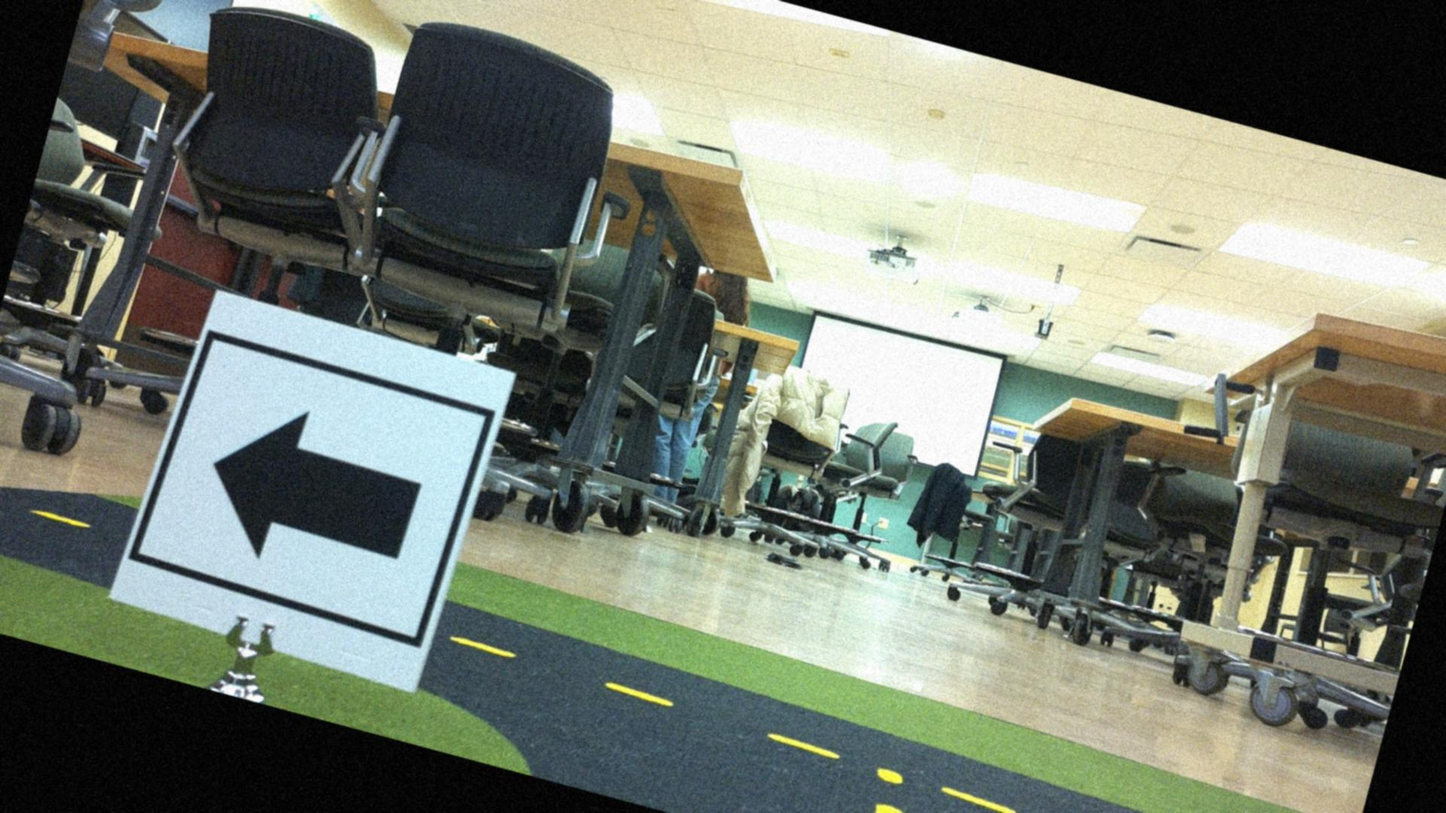turnleft: (131, 294, 505, 681)
yellowline: (447, 633, 1222, 812)
